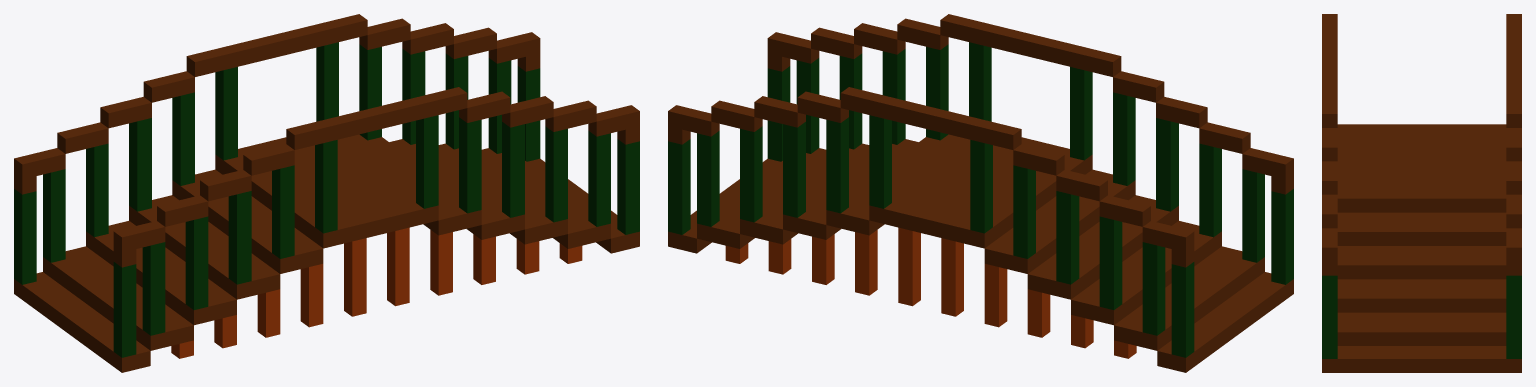
Rendered from bruecke.obj.
3 views of the same model, side by side, from view 1: azimuth 30°, elevation 25°; view 2: azimuth 150°, elevation 25°; view 3: azimuth 270°, elevation 25° (orthographic). The views are drawn at different scales.
Bounding box in the file's own units: 36 × 13 × 13.
Materials: 1 (1 with a texture image).
